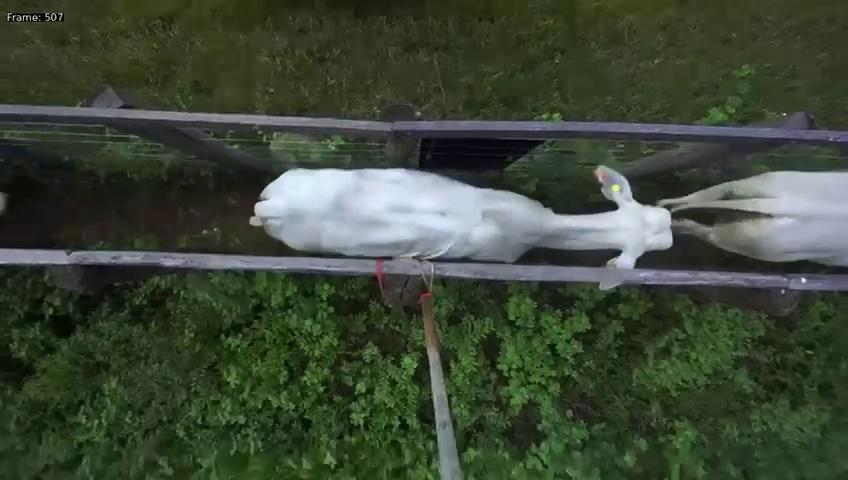cattle: (241, 149, 684, 296)
